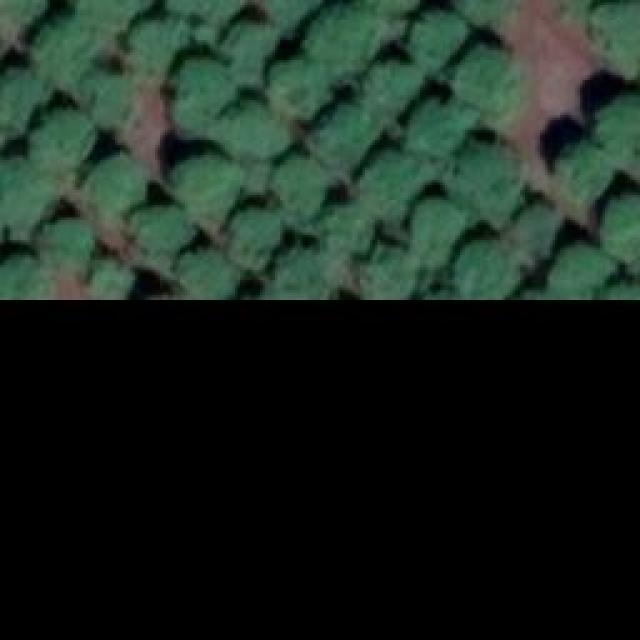Tree: (308, 5, 381, 75), (450, 138, 520, 211), (175, 155, 240, 228), (358, 150, 423, 220), (460, 53, 525, 118), (85, 150, 143, 220), (0, 159, 62, 222), (170, 248, 248, 298), (222, 103, 290, 158), (270, 152, 325, 220), (320, 102, 375, 170), (365, 58, 425, 120), (170, 67, 223, 135), (33, 110, 98, 165), (133, 207, 193, 265), (458, 243, 521, 298), (225, 207, 283, 265), (592, 3, 640, 73), (35, 28, 98, 81), (128, 15, 181, 78), (218, 25, 273, 85), (0, 68, 50, 133), (272, 63, 330, 118), (83, 75, 143, 128), (545, 248, 608, 298), (415, 105, 470, 160), (510, 203, 560, 263), (415, 10, 470, 63), (413, 202, 463, 260), (268, 255, 333, 298), (560, 143, 610, 198), (40, 222, 90, 270), (602, 198, 640, 261), (363, 253, 416, 298), (0, 253, 50, 298), (602, 100, 640, 158), (72, 0, 150, 28), (317, 215, 365, 260), (265, 0, 330, 32), (85, 258, 130, 301), (169, 0, 242, 22), (0, 0, 50, 32), (460, 0, 513, 18), (360, 0, 418, 15)
